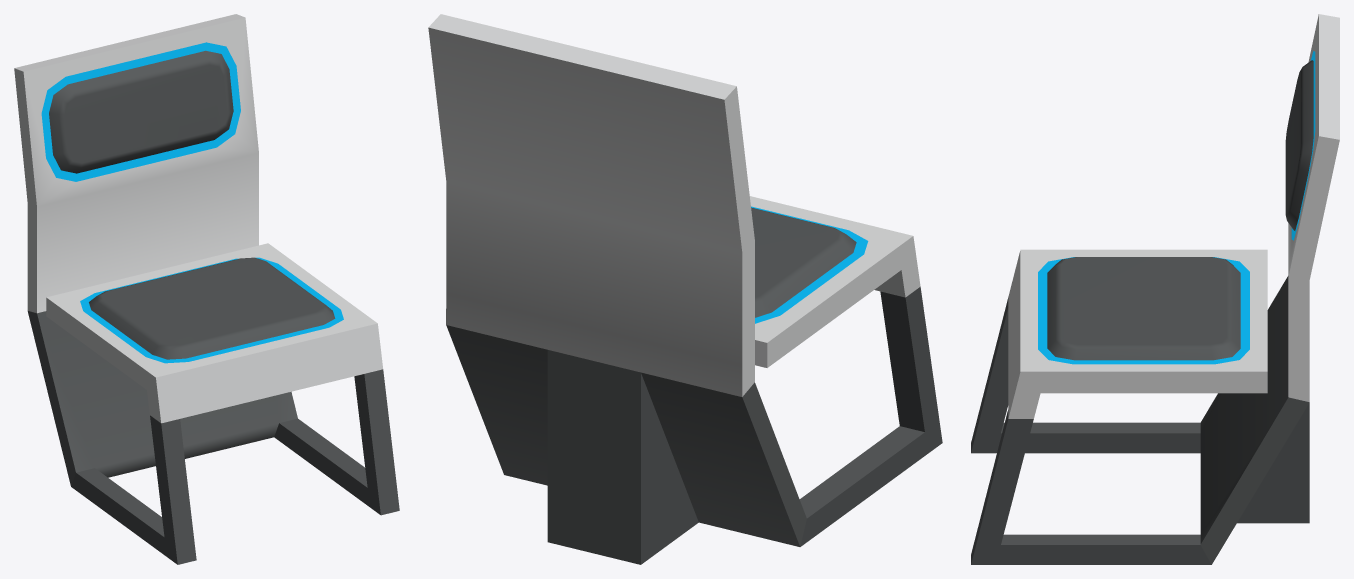
File: Chair_006.glb
3 renders of one model, left to right at view 1: azimuth 30°, elevation 25°; view 2: azimuth 150°, elevation 25°; view 3: azimuth 270°, elevation 25°, orthographic. The views are drawn at different scales.
Visible parts, largest first — view 1: Chair_006; view 2: Chair_006; view 3: Chair_006.
Part boxes in pixels (x1=…): Chair_006: x1=14, y1=14, x2=399, y2=564; Chair_006: x1=428, y1=14, x2=942, y2=564; Chair_006: x1=971, y1=14, x2=1339, y2=564.
Size of the model in its own units: 0.6519 by 1.07 by 0.832.
2 materials, 2 textured.
